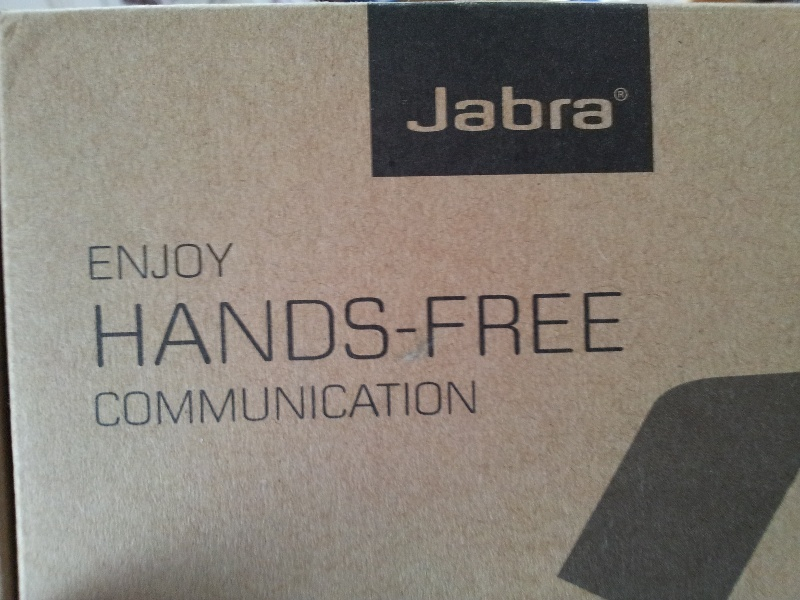text: (609, 289, 625, 368), (97, 289, 112, 368), (113, 289, 128, 368), (129, 289, 144, 368), (145, 289, 160, 368), (161, 289, 176, 368), (177, 289, 192, 368), (193, 289, 208, 368), (209, 289, 224, 368), (225, 289, 240, 368), (241, 289, 256, 368), (257, 289, 272, 368), (273, 289, 288, 368), (289, 289, 304, 368), (305, 289, 320, 368), (321, 289, 336, 368), (337, 289, 352, 368), (353, 289, 368, 368), (369, 289, 384, 368), (385, 289, 400, 368), (401, 289, 416, 368), (417, 289, 432, 368), (433, 289, 448, 368), (449, 289, 464, 368), (465, 289, 480, 368), (481, 289, 496, 368), (497, 289, 512, 368), (513, 289, 528, 368), (529, 289, 544, 368), (545, 289, 560, 368), (561, 289, 576, 368), (577, 289, 592, 368), (593, 289, 608, 368), (417, 84, 432, 134), (433, 84, 448, 134), (449, 84, 464, 134), (465, 84, 480, 134), (481, 84, 496, 134), (497, 84, 512, 134), (513, 84, 528, 134), (529, 84, 544, 134), (545, 84, 560, 134), (561, 84, 576, 134), (577, 84, 592, 134), (593, 84, 608, 134), (97, 380, 112, 427), (113, 380, 128, 427), (129, 380, 144, 427), (145, 380, 160, 427), (161, 380, 176, 427), (177, 380, 192, 427), (193, 380, 208, 427), (209, 380, 224, 427), (225, 380, 240, 427), (241, 380, 256, 427), (257, 380, 272, 427), (273, 380, 288, 427), (289, 380, 304, 427), (305, 380, 320, 427), (321, 380, 336, 427), (337, 380, 352, 427), (353, 380, 368, 427), (369, 380, 384, 427), (385, 380, 400, 427), (401, 380, 416, 427), (417, 380, 432, 427), (433, 380, 448, 427), (449, 380, 464, 427), (465, 380, 478, 427), (97, 243, 112, 281), (113, 243, 128, 281), (129, 243, 144, 281), (145, 243, 160, 281), (161, 243, 176, 281), (177, 243, 192, 281), (193, 243, 208, 281), (209, 243, 224, 281), (405, 84, 416, 134), (225, 243, 235, 281), (88, 243, 96, 281), (93, 289, 96, 368), (609, 84, 613, 134), (95, 380, 96, 427), (618, 91, 624, 98)
